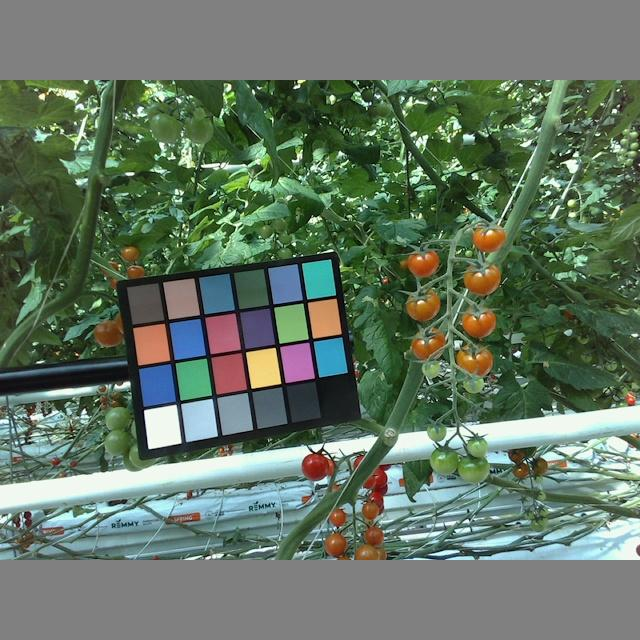green: (179, 112, 215, 144), (149, 112, 182, 145), (457, 452, 489, 484), (428, 446, 460, 477), (104, 406, 132, 433), (103, 430, 132, 456), (466, 432, 490, 458), (463, 374, 487, 395), (422, 359, 444, 378), (429, 423, 448, 442)
pink: (409, 326, 448, 362), (404, 290, 443, 323), (456, 347, 493, 380), (462, 262, 501, 293), (460, 306, 496, 338), (470, 226, 509, 253), (405, 249, 442, 277), (94, 318, 125, 346), (321, 533, 347, 557), (359, 499, 380, 520), (363, 525, 386, 544), (327, 507, 348, 527)
red: (302, 451, 330, 482)
